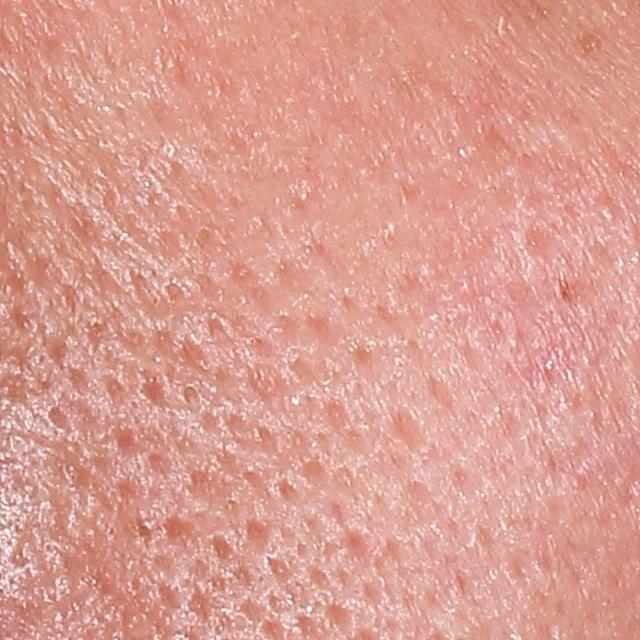atrophic_scar: (386, 406, 434, 454)
melasma: (574, 26, 615, 57)
